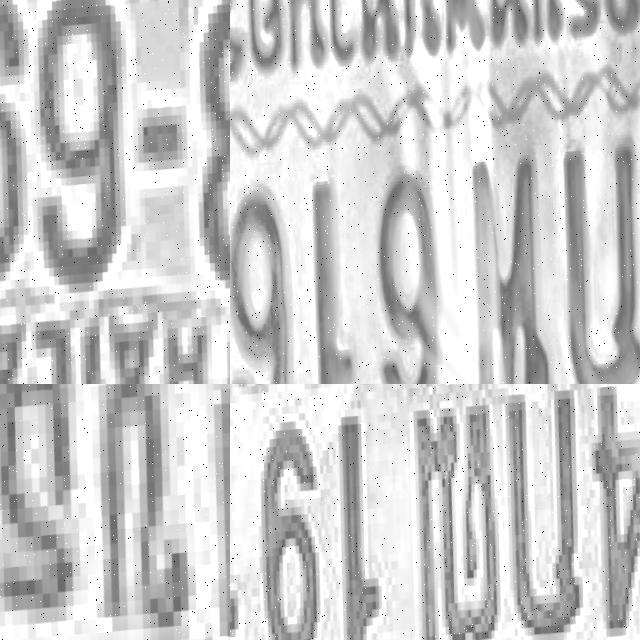license-plate: (230, 0, 640, 384), (230, 384, 640, 640), (0, 0, 230, 384), (0, 384, 230, 640)
